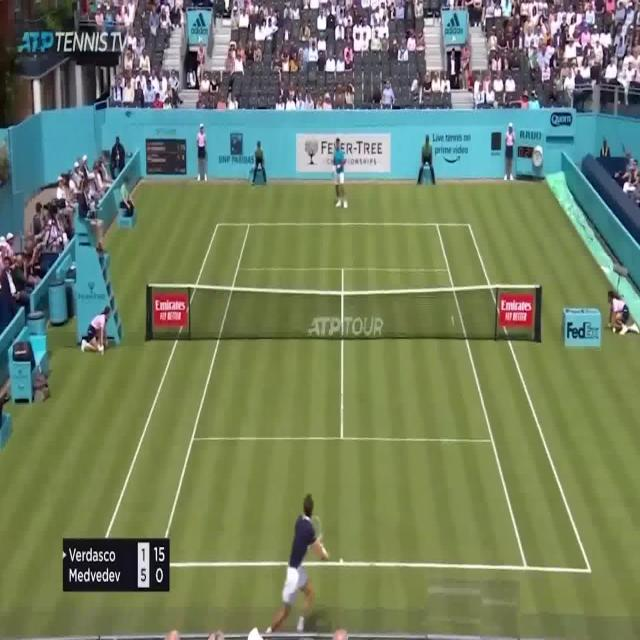bottom-dead-zone: (160, 438, 526, 569)
court: (96, 224, 591, 572)
left-doubles-alley: (98, 224, 249, 562)
left-service-box: (192, 267, 343, 438)
net: (144, 278, 543, 345)
right-doubles-alley: (436, 225, 591, 573)
right-service-box: (342, 270, 494, 442)
top-dead-zone: (237, 224, 449, 270)
